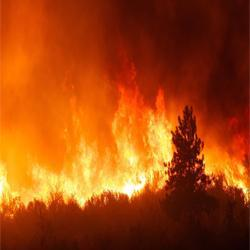fire: (117, 105, 168, 187), (68, 141, 109, 197), (29, 166, 62, 200)
